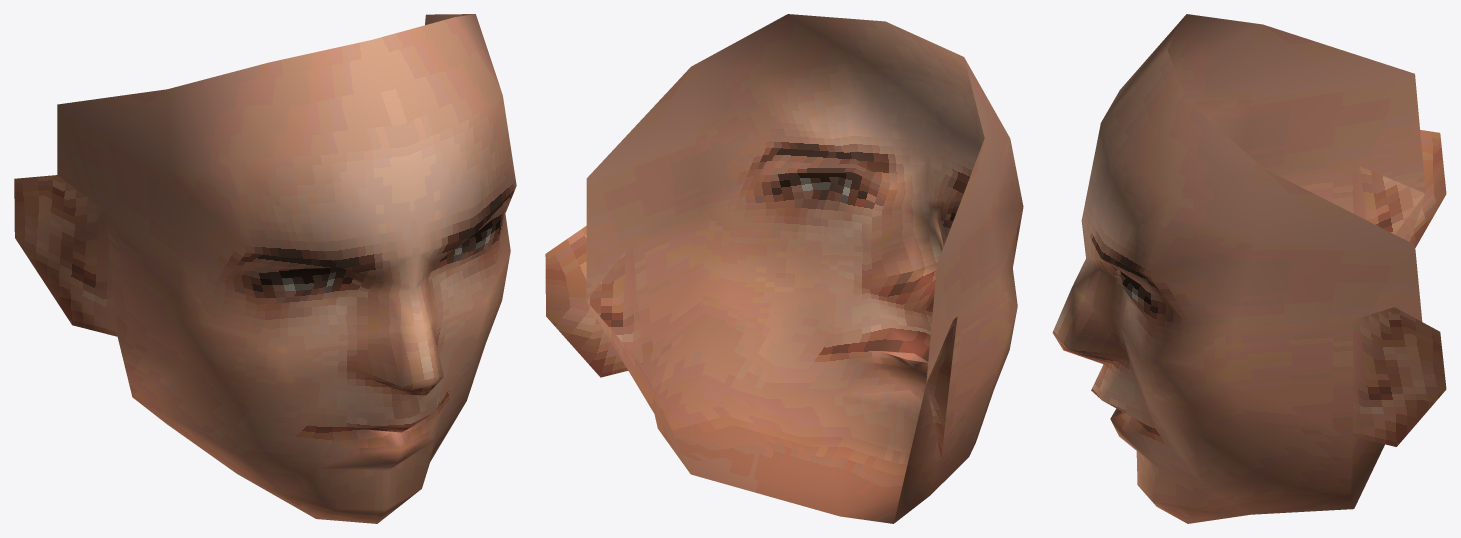
The model's file is m_hair017.glb.
3 renders of one model, left to right at view 1: azimuth 30°, elevation 25°; view 2: azimuth 150°, elevation 25°; view 3: azimuth 270°, elevation 25°, orthographic. The views are drawn at different scales.
Size of the model in its own units: 17.18 by 18.67 by 14.39.
1 material, 1 textured.
